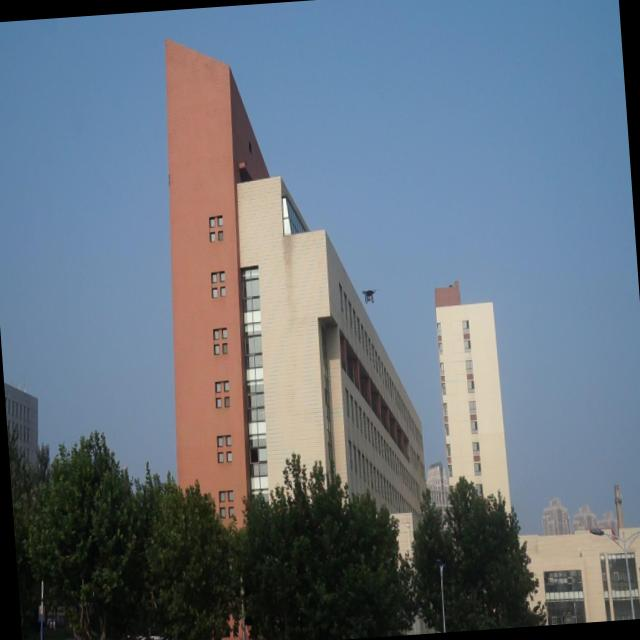drone: (360, 285, 380, 306)
